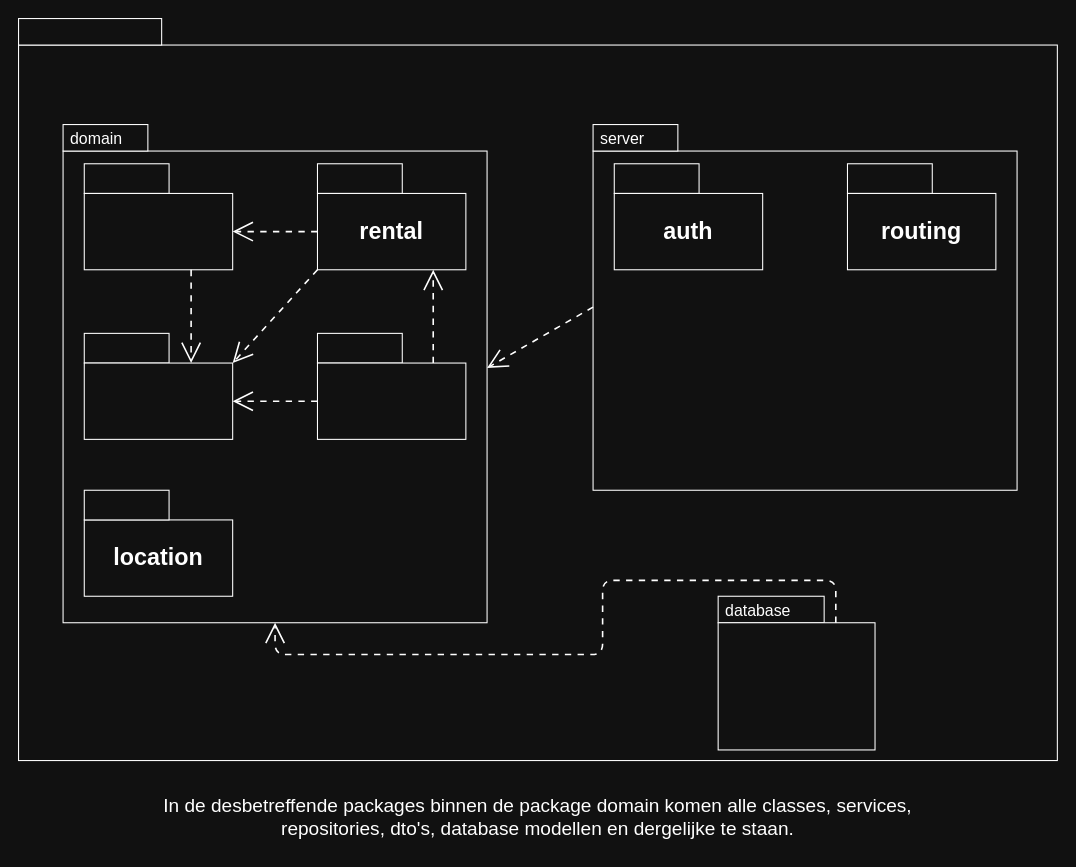
This 1076x867 diagram has some shape labels left out. The centre of each missing label's shape, as x and y in pixels:
"car" belongs at point 158,231.
"com.rentmycar" belongs at point 89,31.
"trip" belongs at point 391,400.
"user" belongs at point 158,400.
